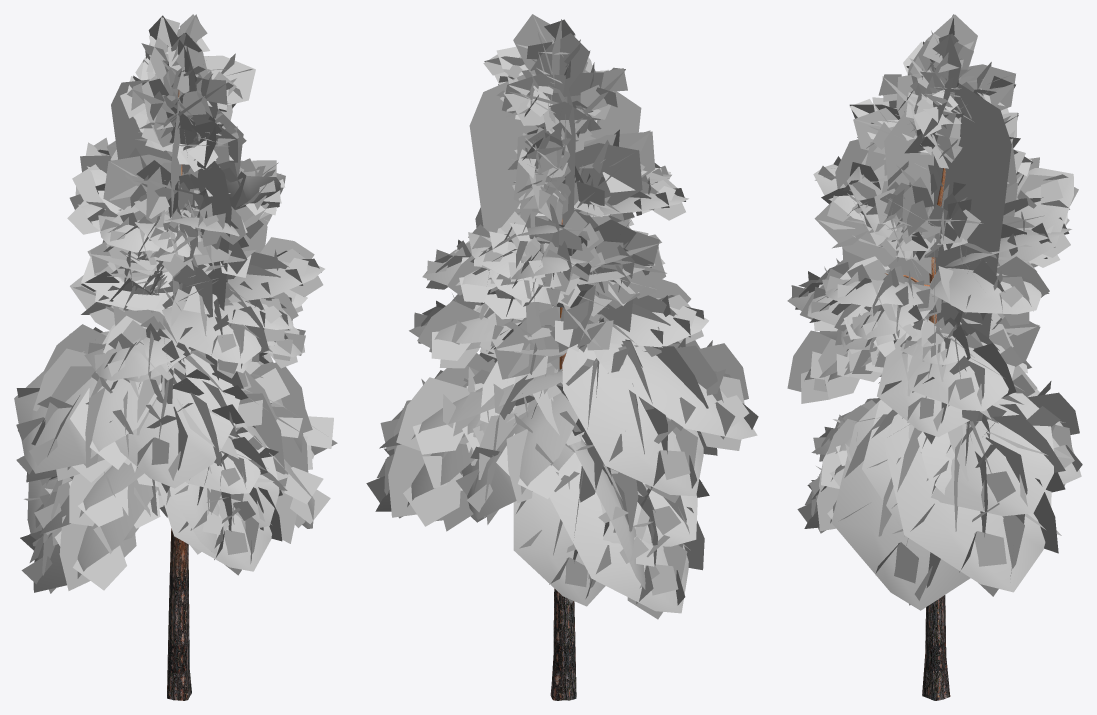
The model's file is pine_04.fbx.
3 renders of one model, left to right at view 1: azimuth 30°, elevation 25°; view 2: azimuth 150°, elevation 25°; view 3: azimuth 270°, elevation 25°, orthographic.
Parts seen in each view (by area): view 1: Cylinder_1; view 2: Cylinder_1; view 3: Cylinder_1.
Part boxes in pixels (x1,y1,x2,y2): Cylinder_1: (14, 14, 337, 700); Cylinder_1: (366, 14, 758, 700); Cylinder_1: (787, 14, 1082, 700).
Bounding box in the file's own units: 1226 × 2386 × 944.
